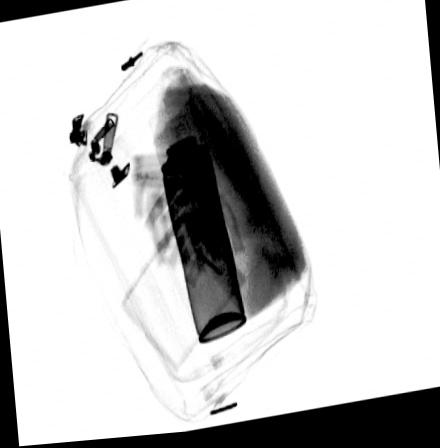Sprayer: (145, 98, 247, 349)
